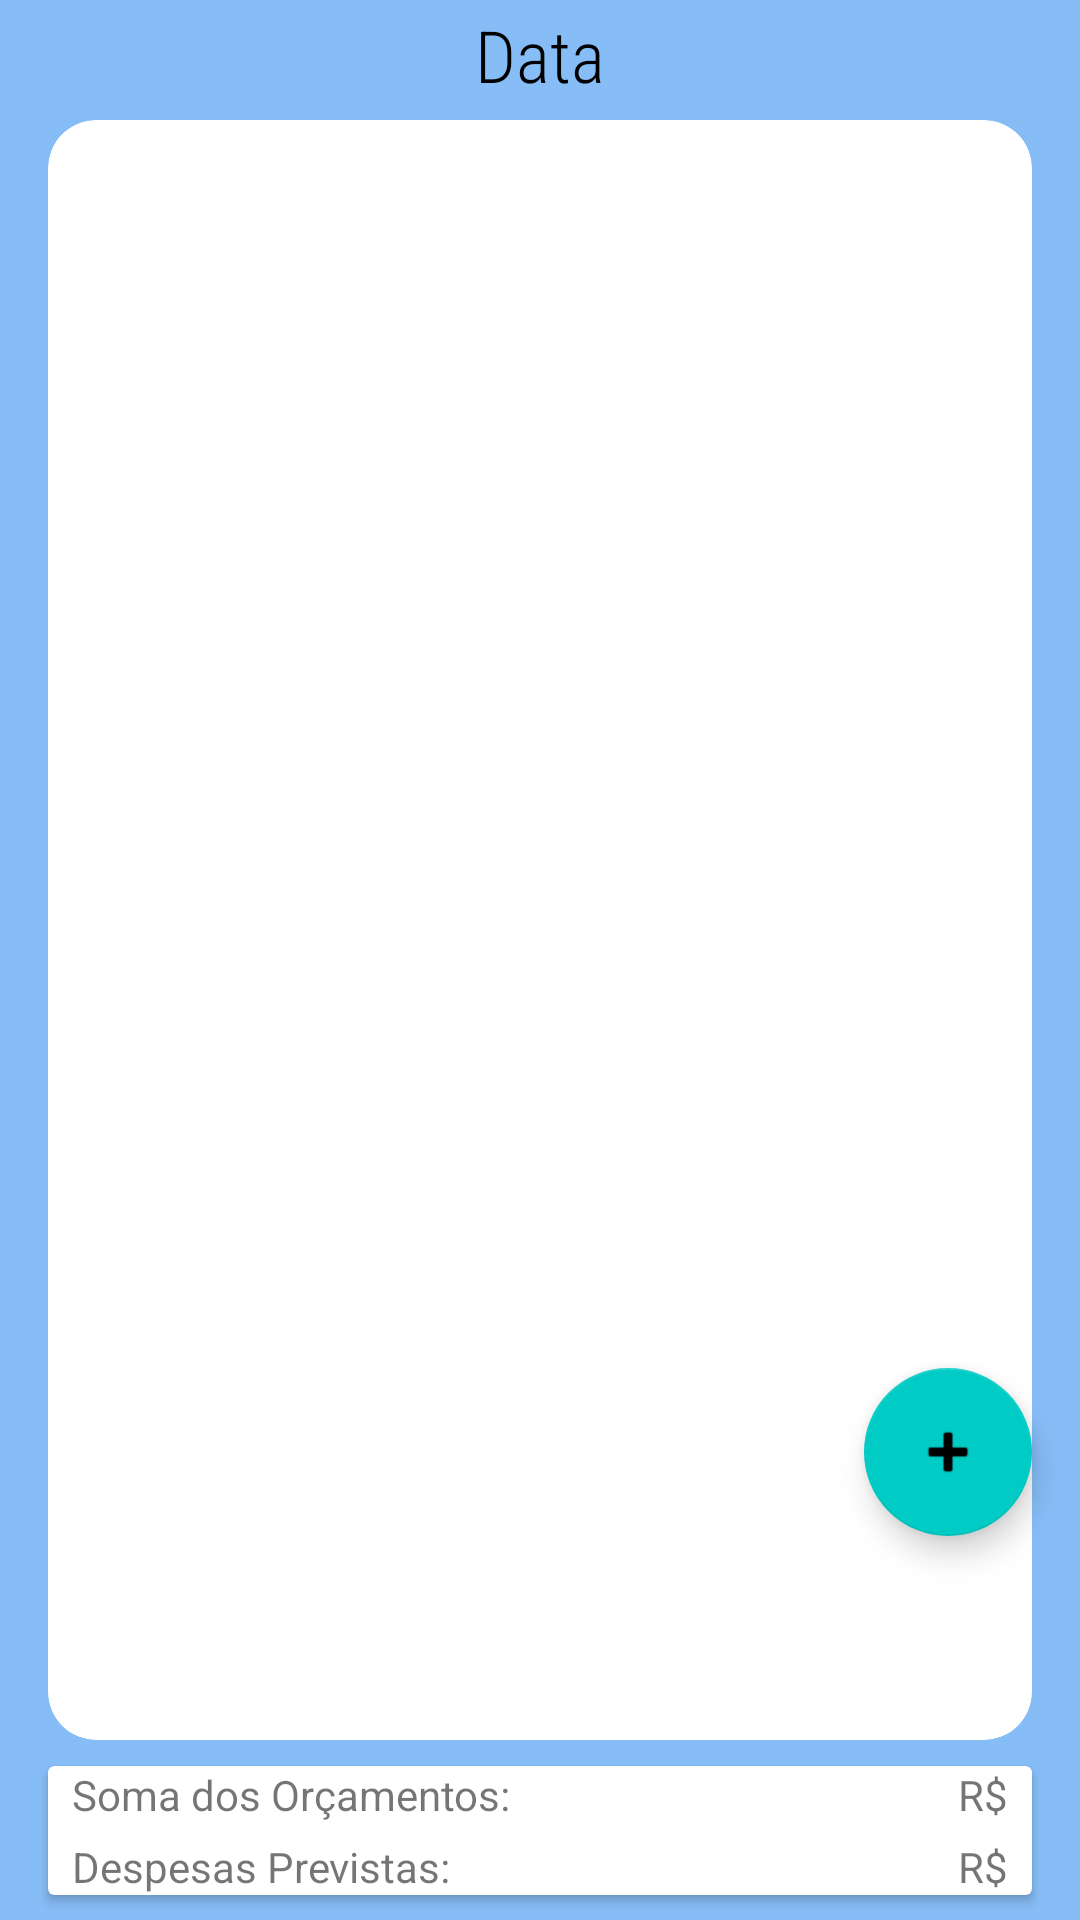

Screen size 1080x1920. Icon name, then its box in pixels as (x1, y1, x2, y2):
add: (864, 1368, 1032, 1536)
